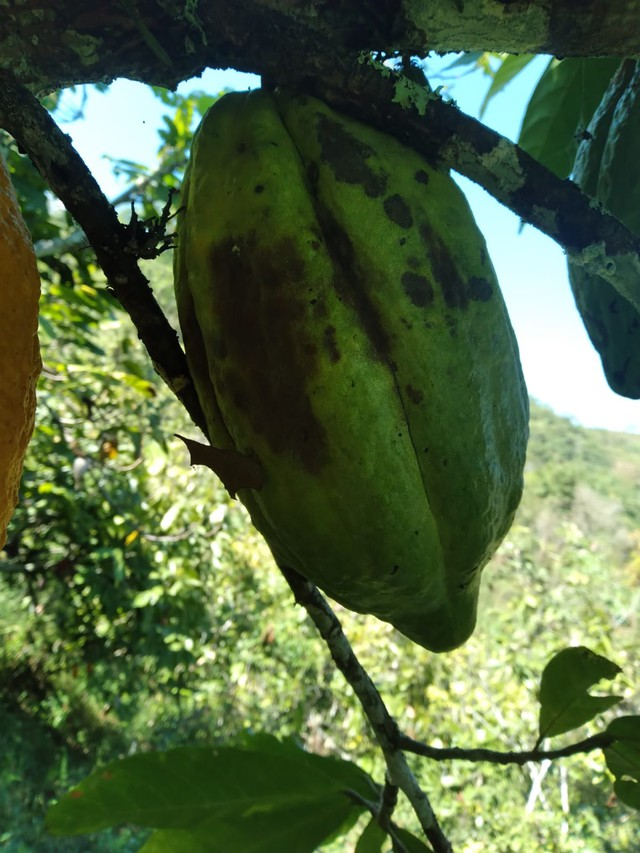moniliophthora perniciosa: (170, 76, 540, 658)
